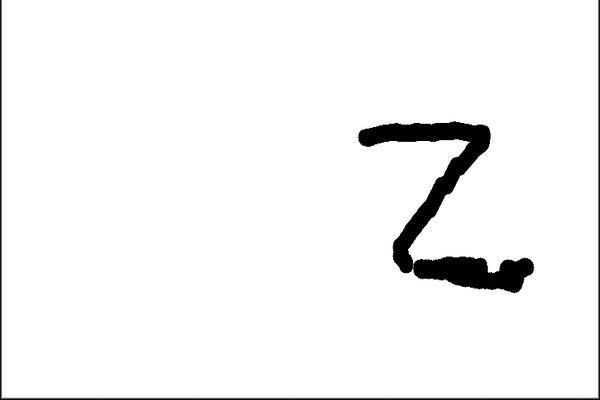Z: (344, 113, 542, 304)
